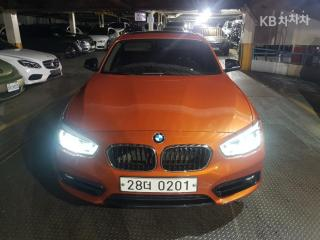0: (173, 179, 183, 191), (158, 180, 165, 191)
1: (183, 179, 190, 191)
2: (166, 180, 174, 192), (127, 179, 134, 191)
8: (134, 179, 143, 191)
plate: (117, 172, 203, 198)
더: (143, 180, 153, 191)
